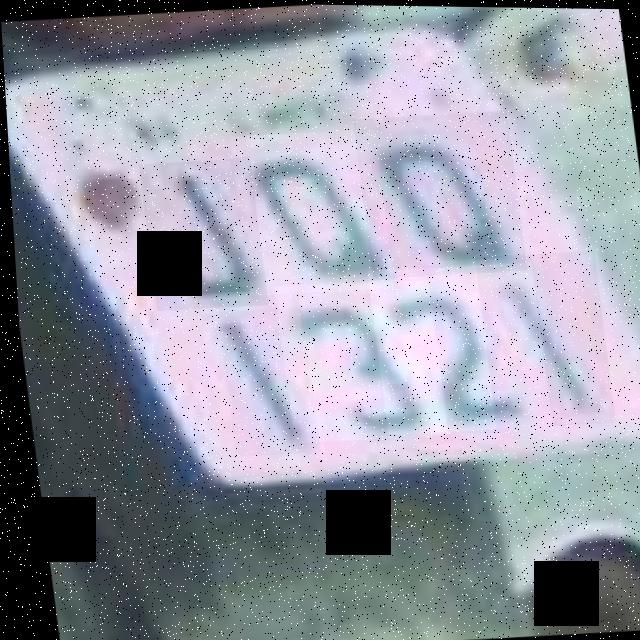1: (471, 247, 611, 428), (213, 305, 315, 456)
2: (363, 258, 547, 435)
3: (270, 276, 443, 444)
J: (136, 155, 265, 312)
O: (350, 107, 524, 279), (227, 126, 391, 298)
